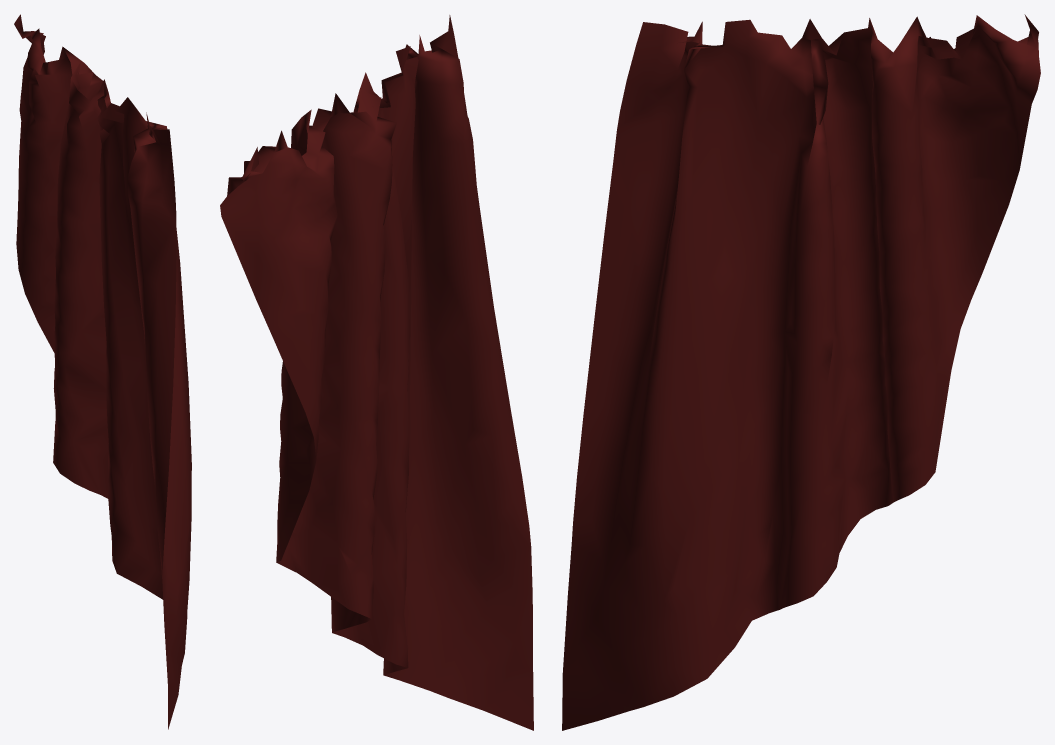
The model's file is SHTORA-1.fbx.
3 views of the same model, side by side, from view 1: azimuth 30°, elevation 25°; view 2: azimuth 150°, elevation 25°; view 3: azimuth 270°, elevation 25° (orthographic). The views are drawn at different scales.
Visible parts, largest first — view 1: Plane.004; view 2: Plane.004; view 3: Plane.004.
Part boxes in pixels (left/top/right/bottom): Plane.004: left=14, top=14, right=191, bottom=729; Plane.004: left=220, top=15, right=533, bottom=730; Plane.004: left=562, top=14, right=1040, bottom=730.
Size of the model in its own units: 5.71 by 50.37 by 29.62.
